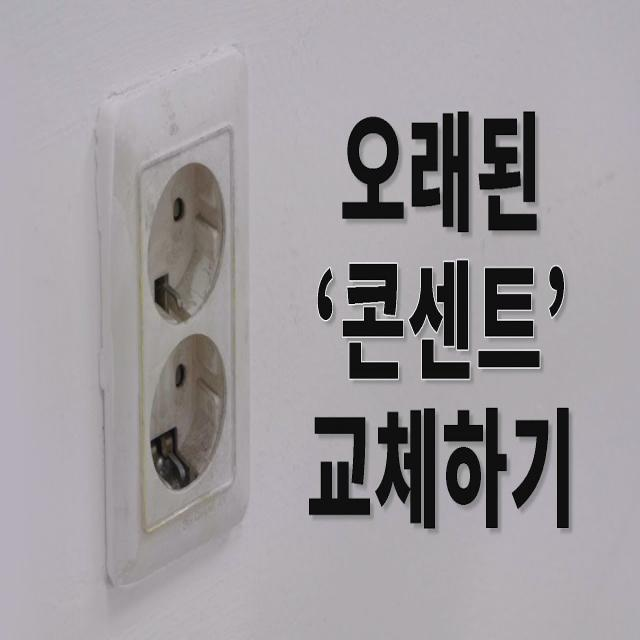typeb: (58, 56, 282, 620)
